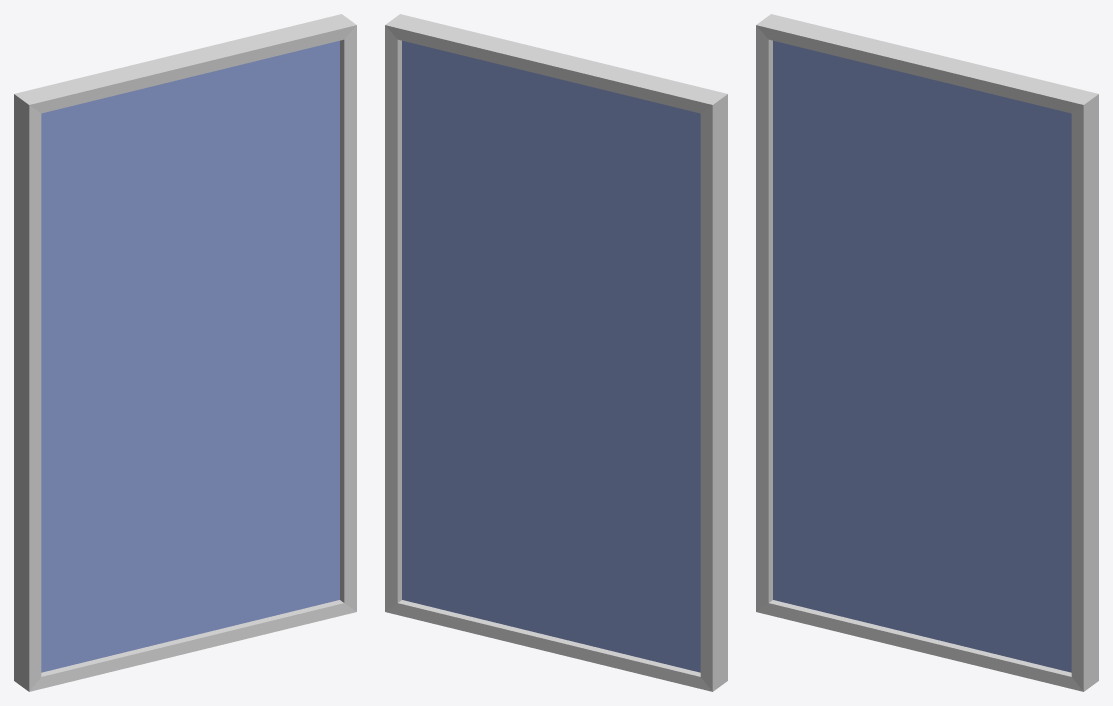
File: Casino Window.fbx
3 renders of one model, left to right at view 1: azimuth 30°, elevation 25°; view 2: azimuth 150°, elevation 25°; view 3: azimuth 330°, elevation 25°, orthographic.
Visible parts, largest first — view 1: Window, Window Support; view 2: Window, Window Support; view 3: Window, Window Support.
Boxes of the visible parts, x1=… form: Window: x1=41, y1=40, x2=339, y2=672; Window Support: x1=14, y1=14, x2=356, y2=691; Window: x1=402, y1=40, x2=700, y2=672; Window Support: x1=385, y1=14, x2=727, y2=691; Window: x1=773, y1=40, x2=1071, y2=672; Window Support: x1=756, y1=14, x2=1098, y2=691.
Bounding box in the file's own units: 97.4 × 167 × 7.79.
